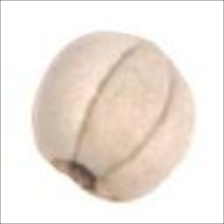L5: (73, 38, 175, 177), (46, 156, 108, 198)
L6: (29, 28, 198, 205)
